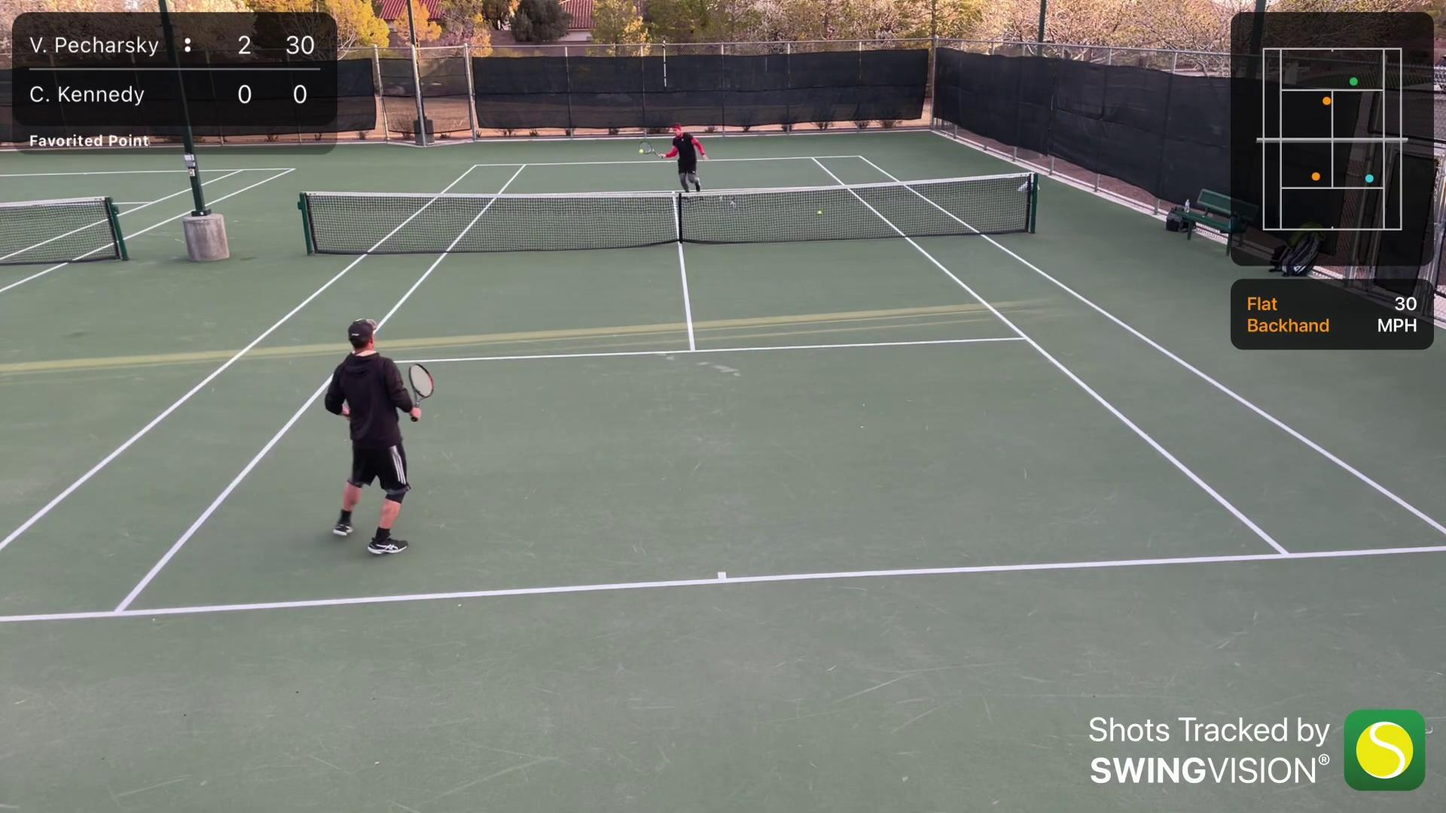ball: (636, 148, 645, 155), (816, 210, 823, 216)
